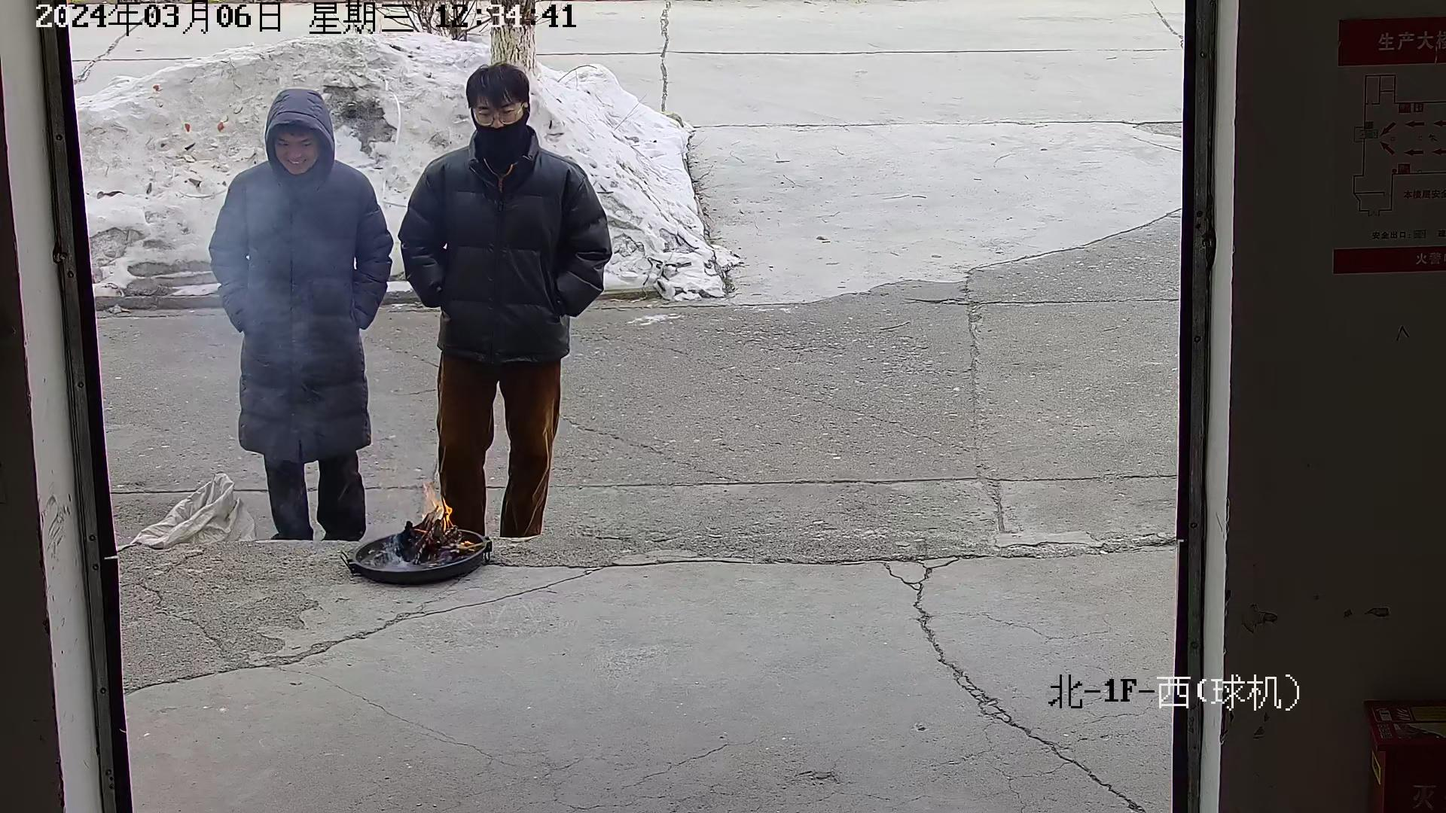fire: (422, 480, 450, 520)
